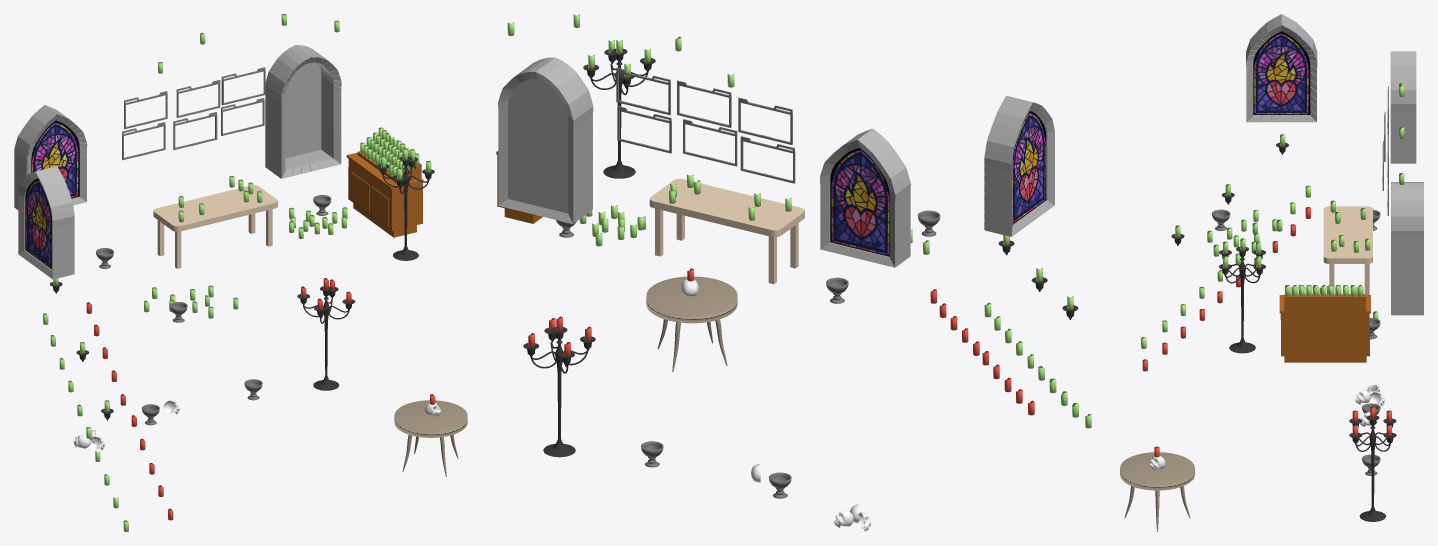
File: things.glb
The picture shows the model from 3 angles, left to right: view 1: azimuth 30°, elevation 25°; view 2: azimuth 150°, elevation 25°; view 3: azimuth 270°, elevation 25°; orthographic projection. The views are drawn at different scales.
Visible parts, largest first — view 1: WindowRock.003, Cube, WindowRock.001, DesktopBase, WindowRock.002, WindowCrystal01.002, TableBase, WindowCrystal01.003, CandelabraBase.001, CandelabraBase; view 2: WindowRock.003, WindowRock.001, WindowCrystal01.004, WindowRock.002, DesktopBase, TableBase, WindowCrystal01.003, CandelabraBase; view 3: Cube, WindowRock.003, WindowCrystal01.001, WindowRock.002, WindowRock.001, DesktopBase, TableBase, CandelabraBase, CandelabraBase.001.
Boxes of the visible parts, x1,y1,x2,y2 form: WindowRock.003: [265, 45, 341, 178]; Cube: [346, 151, 423, 237]; WindowRock.001: [18, 166, 74, 279]; DesktopBase: [153, 185, 277, 231]; WindowRock.002: [14, 105, 87, 209]; WindowCrystal01.002: [31, 120, 79, 198]; TableBase: [394, 400, 467, 437]; WindowCrystal01.003: [25, 178, 51, 269]; CandelabraBase.001: [393, 167, 418, 260]; CandelabraBase: [313, 297, 339, 390]; WindowRock.003: [498, 57, 593, 223]; WindowRock.001: [984, 96, 1054, 236]; WindowCrystal01.004: [830, 147, 889, 256]; WindowRock.002: [820, 128, 910, 267]; DesktopBase: [649, 178, 804, 237]; TableBase: [646, 276, 737, 323]; WindowCrystal01.003: [1012, 111, 1045, 224]; CandelabraBase: [543, 340, 575, 457]; Cube: [1279, 294, 1370, 362]; WindowRock.003: [1391, 182, 1423, 315]; WindowCrystal01.001: [1253, 31, 1310, 114]; WindowRock.002: [1390, 51, 1416, 163]; WindowRock.001: [1246, 14, 1317, 122]; DesktopBase: [1323, 206, 1372, 263]; TableBase: [1120, 452, 1194, 490]; CandelabraBase: [1359, 426, 1386, 521]; CandelabraBase.001: [1229, 257, 1255, 353].
Bounding box in the file's own units: 18.49 × 16.95 × 12.32.
11 materials, 1 textured.
